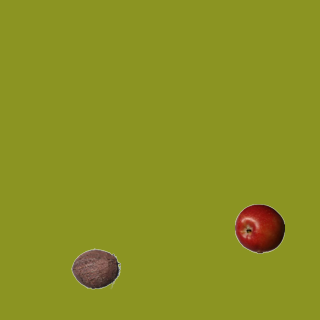Apple Braeburn: (234, 203, 284, 253)
Cocos: (70, 243, 120, 293)
